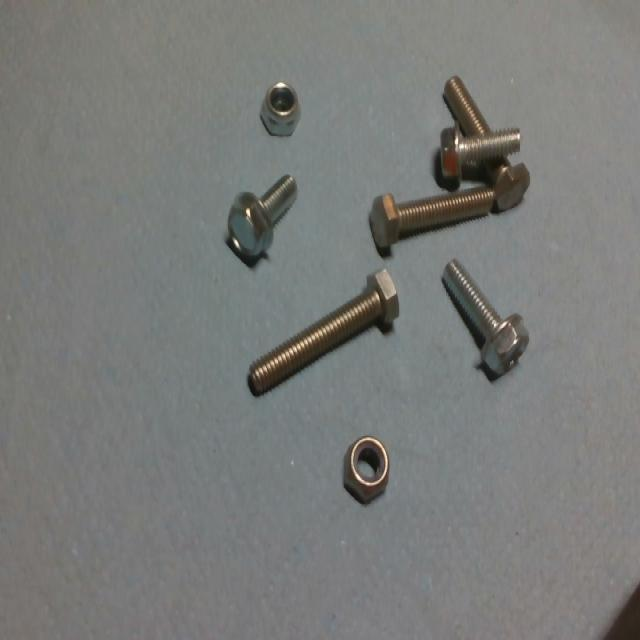Bolt: (247, 271, 398, 396), (440, 260, 529, 377), (368, 185, 494, 251), (227, 175, 297, 264), (441, 127, 520, 189), (478, 157, 530, 212)
Nut: (341, 435, 391, 504), (259, 81, 300, 139)
